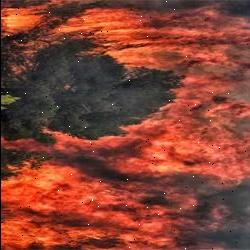fire: (0, 121, 250, 250), (0, 0, 246, 74)
